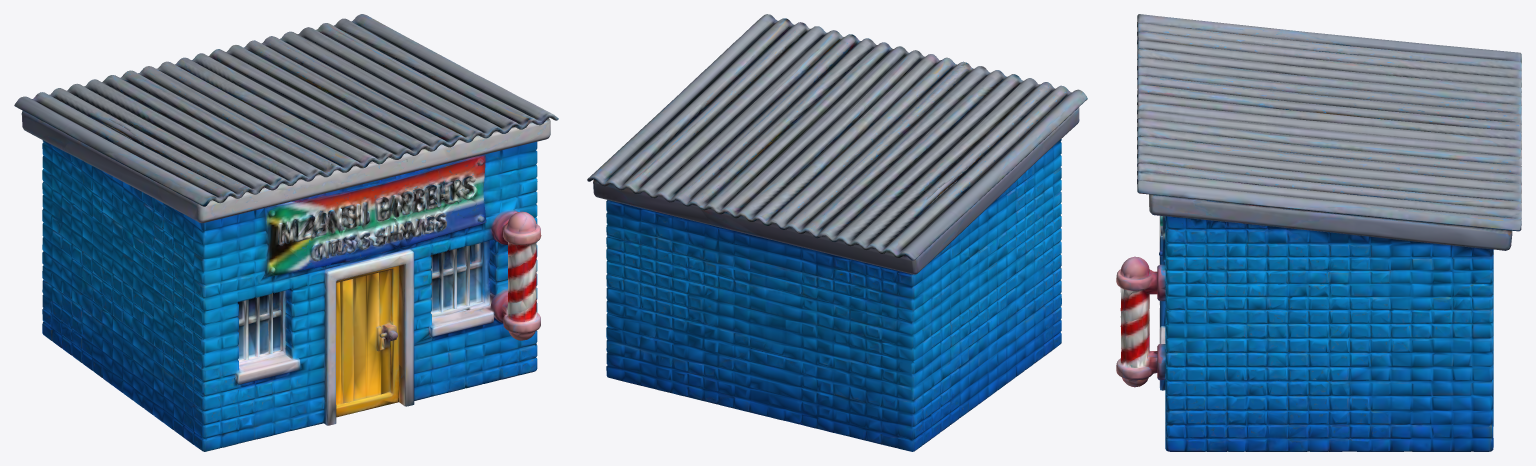
File: BarberShop.glb
3 views of the same model, side by side, from view 1: azimuth 30°, elevation 25°; view 2: azimuth 150°, elevation 25°; view 3: azimuth 270°, elevation 25° (orthographic). The views are drawn at different scales.
Visible parts, largest first — view 1: node_0; view 2: node_0; view 3: node_0.
Boxes of the visible parts, left/top/right/bottom form: node_0: left=14, top=14, right=558, bottom=451; node_0: left=587, top=14, right=1087, bottom=451; node_0: left=1116, top=14, right=1521, bottom=451.
Bounding box in the file's own units: 0.8073 × 0.5799 × 0.7876.
1 material, 1 textured.
